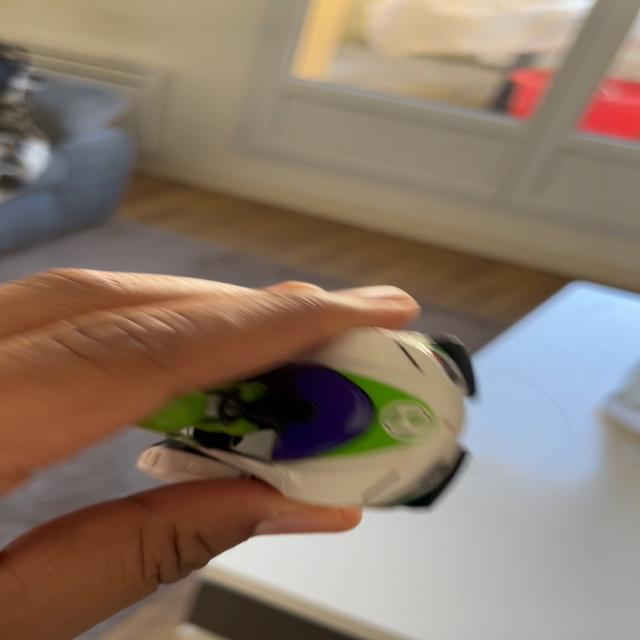yoshi: (110, 338, 516, 532)
